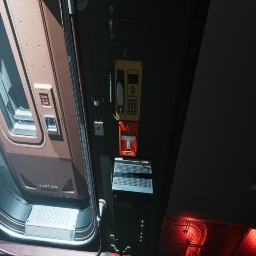EmergencyPhone ,: (109, 39, 142, 121)
FireAlarm ,: (119, 120, 139, 157)
FireExtinguisher ]: (104, 251, 132, 256)
